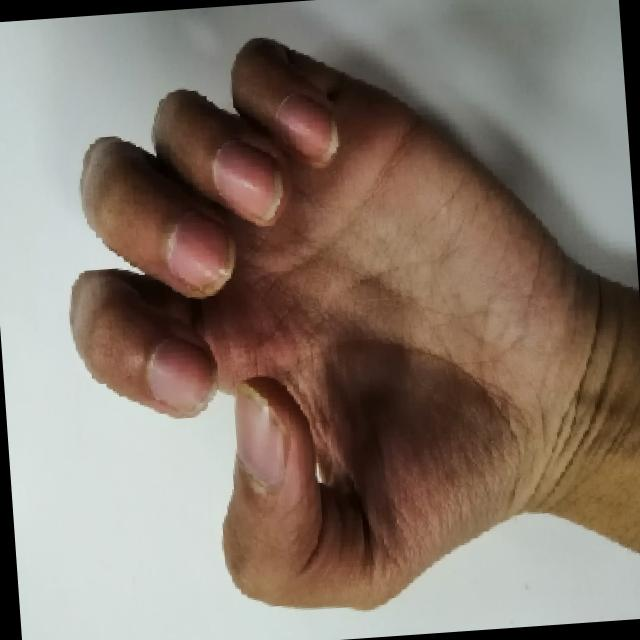Nail: (212, 140, 282, 225), (165, 213, 234, 295), (146, 338, 215, 416), (235, 383, 286, 488), (274, 94, 338, 161)
